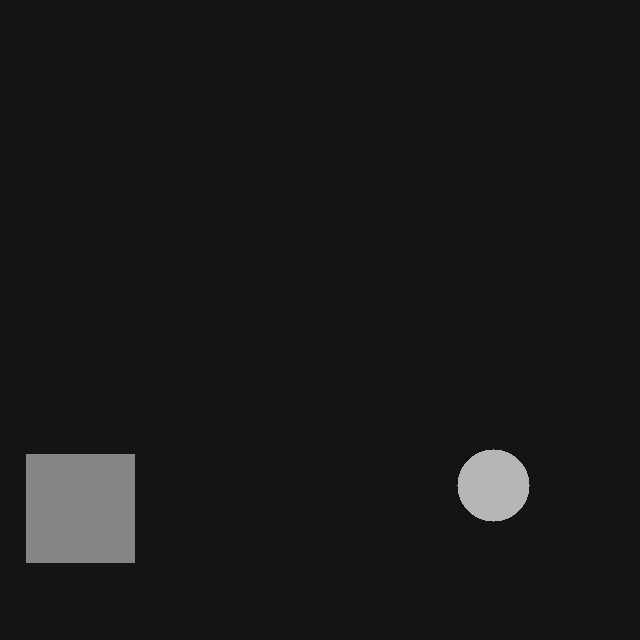circle: (457, 449, 529, 521)
square: (26, 454, 134, 562)
